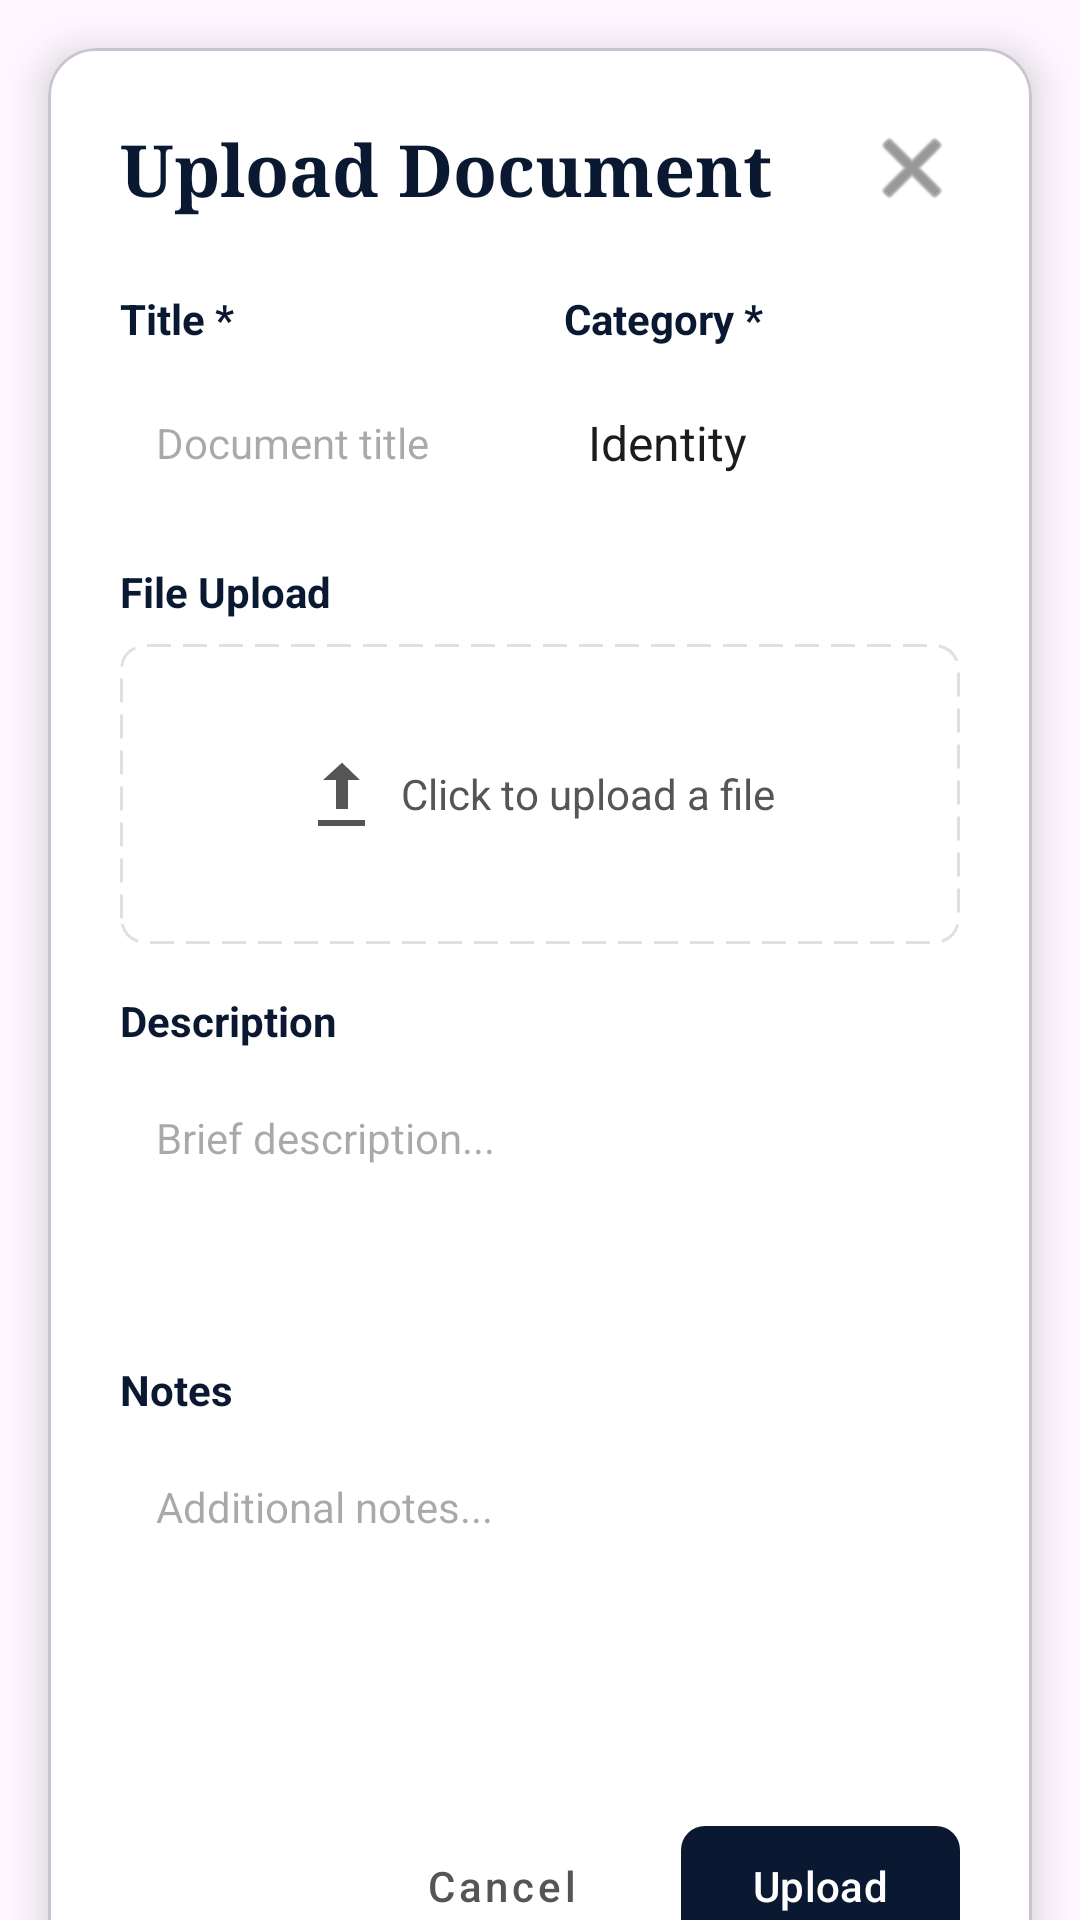

Locate icon controls on the screen. Image size 1080px x 1920px, boxes as box(x1, y1, x2, y2).
close clear cancel: box(882, 138, 942, 198)
